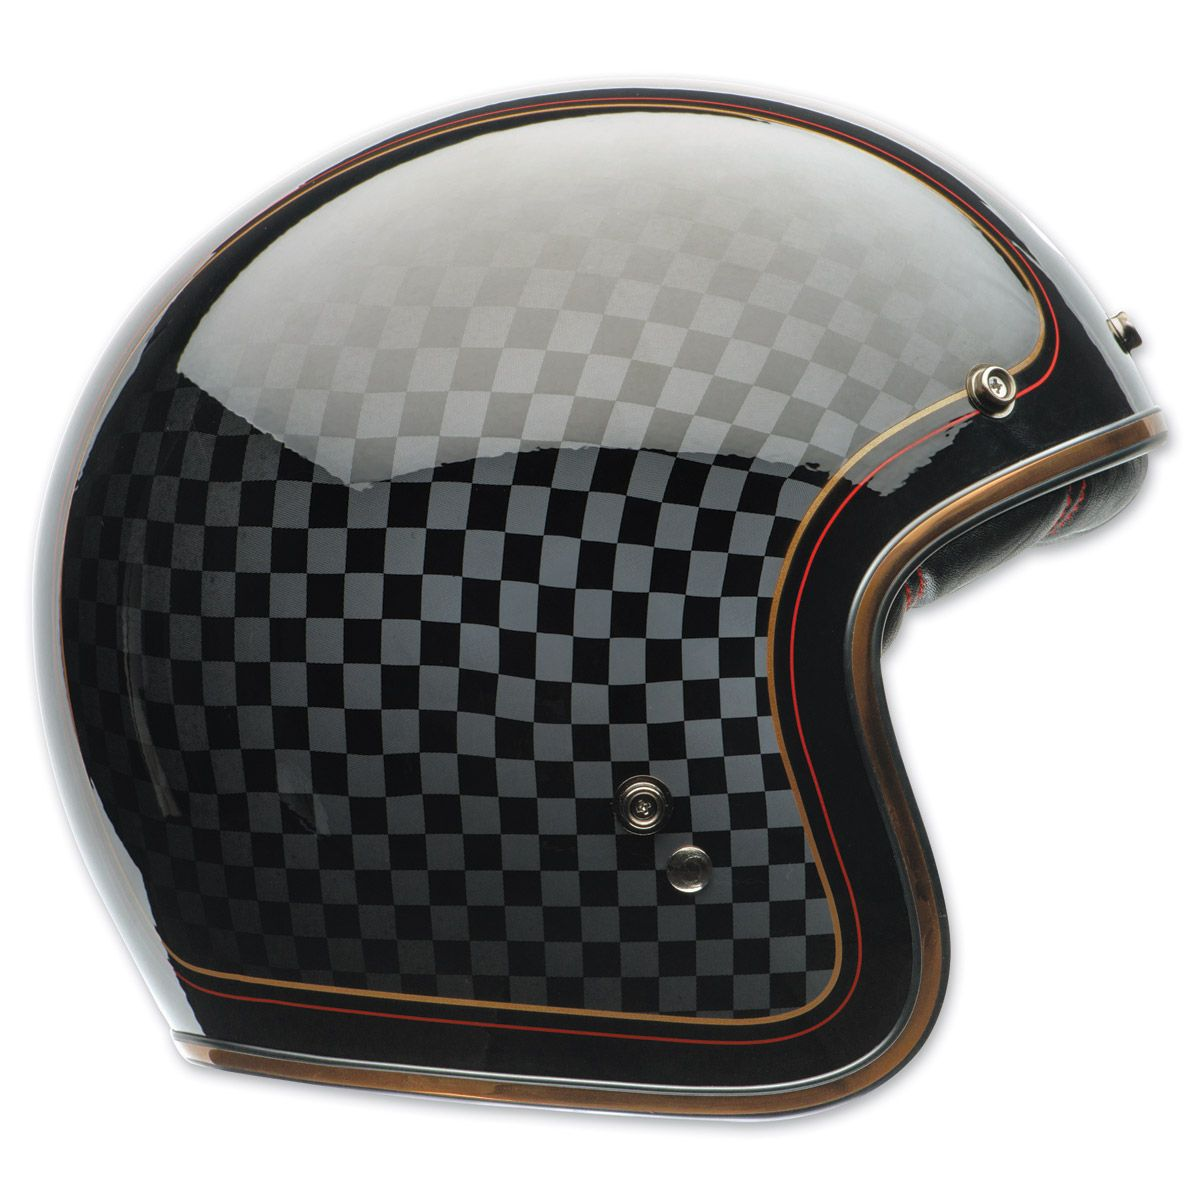with_helmet: (40, 75, 1143, 1125)
